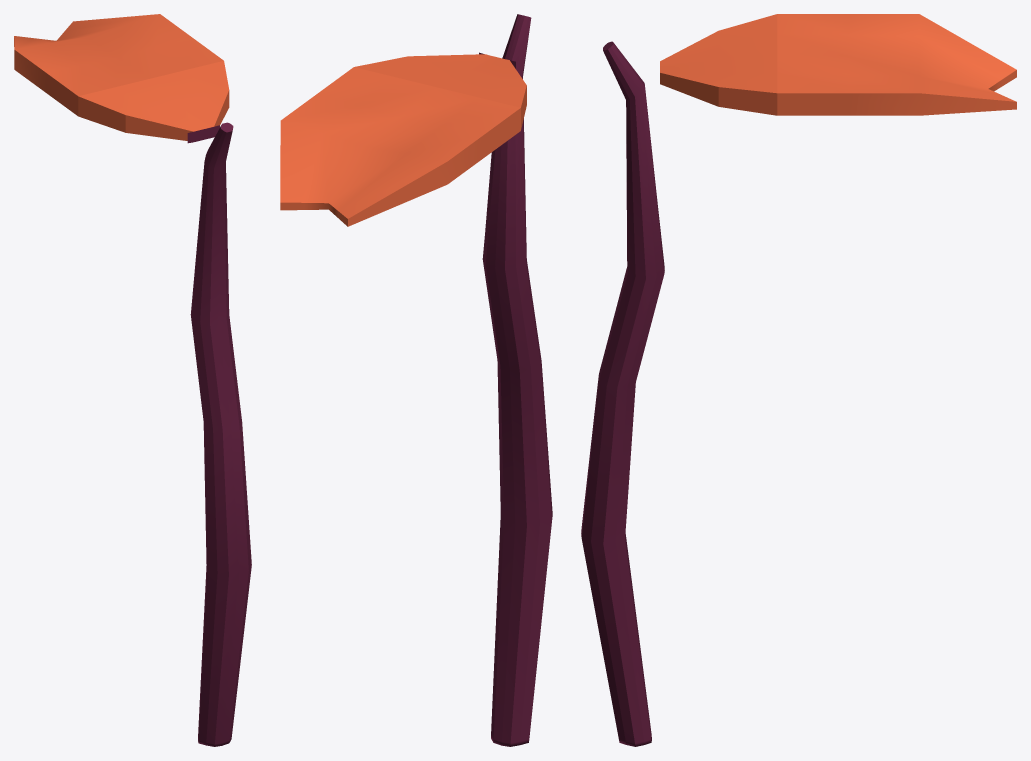
The model's file is flor.fbx.
3 views of the same model, side by side, from view 1: azimuth 30°, elevation 25°; view 2: azimuth 150°, elevation 25°; view 3: azimuth 270°, elevation 25° (orthographic). The views are drawn at different scales.
Visible parts, largest first — view 1: florVuve, florVuve.001; view 2: florVuve.001, florVuve; view 3: florVuve.001, florVuve.
Part boxes in pixels (x1,y1,x2,y2): florVuve: [187, 122, 251, 746]; florVuve.001: [14, 14, 229, 140]; florVuve.001: [280, 54, 526, 226]; florVuve: [479, 14, 552, 746]; florVuve.001: [660, 14, 1016, 115]; florVuve: [581, 41, 664, 746].
Bounding box in the file's own units: 48.13 × 197 × 112.
